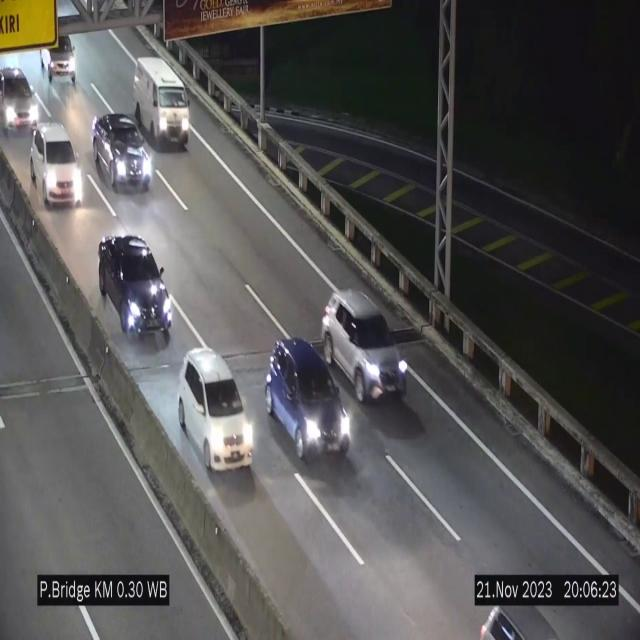Car: (265, 333, 353, 472), (321, 290, 408, 403), (179, 348, 255, 476), (97, 233, 176, 345), (28, 119, 86, 213), (133, 57, 191, 148), (92, 109, 154, 194)
